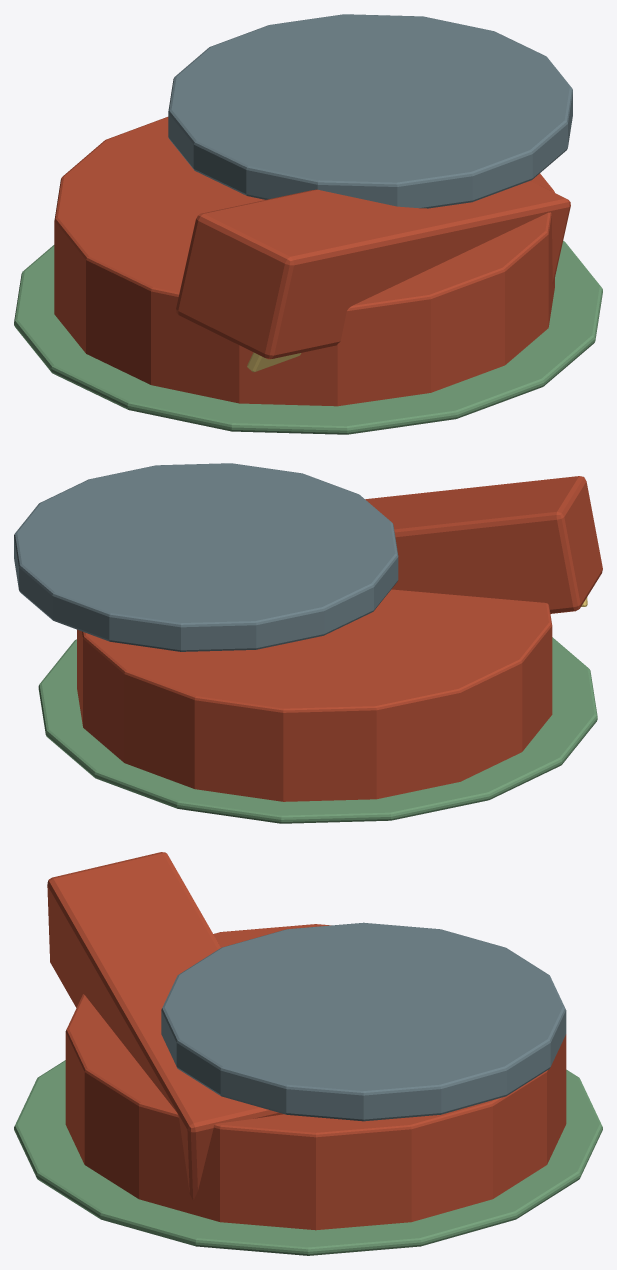
File: fuel_barrel_d3.glb
3 renders of one model, top to bottom at view 1: azimuth 30°, elevation 25°; view 2: azimuth 150°, elevation 25°; view 3: azimuth 270°, elevation 25°, orthographic. The views are drawn at different scales.
Parts seen in each view (by area): view 1: Collapsed barrel footprint.002, Detached original rim.002, Rolled barrel shell.002, Fuel spill.002; view 2: Collapsed barrel footprint.002, Detached original rim.002, Rolled barrel shell.002, Fuel spill.002; view 3: Detached original rim.002, Collapsed barrel footprint.002, Rolled barrel shell.002, Fuel spill.002.
Boxes of the visible parts, bbox=[...] form: Collapsed barrel footprint.002: bbox=[54, 117, 554, 406]; Detached original rim.002: bbox=[168, 14, 572, 208]; Rolled barrel shell.002: bbox=[176, 181, 570, 359]; Fuel spill.002: bbox=[14, 241, 602, 434]; Collapsed barrel footprint.002: bbox=[77, 589, 552, 801]; Detached original rim.002: bbox=[14, 463, 398, 651]; Rolled barrel shell.002: bbox=[365, 476, 602, 613]; Fuel spill.002: bbox=[38, 637, 597, 823]; Detached original rim.002: bbox=[161, 922, 566, 1121]; Collapsed barrel footprint.002: bbox=[65, 924, 566, 1230]; Rolled barrel shell.002: bbox=[47, 852, 283, 1200]; Fuel spill.002: bbox=[14, 1060, 602, 1255].
Bounding box in the file's own units: 1.63 × 0.5798 × 1.6.
